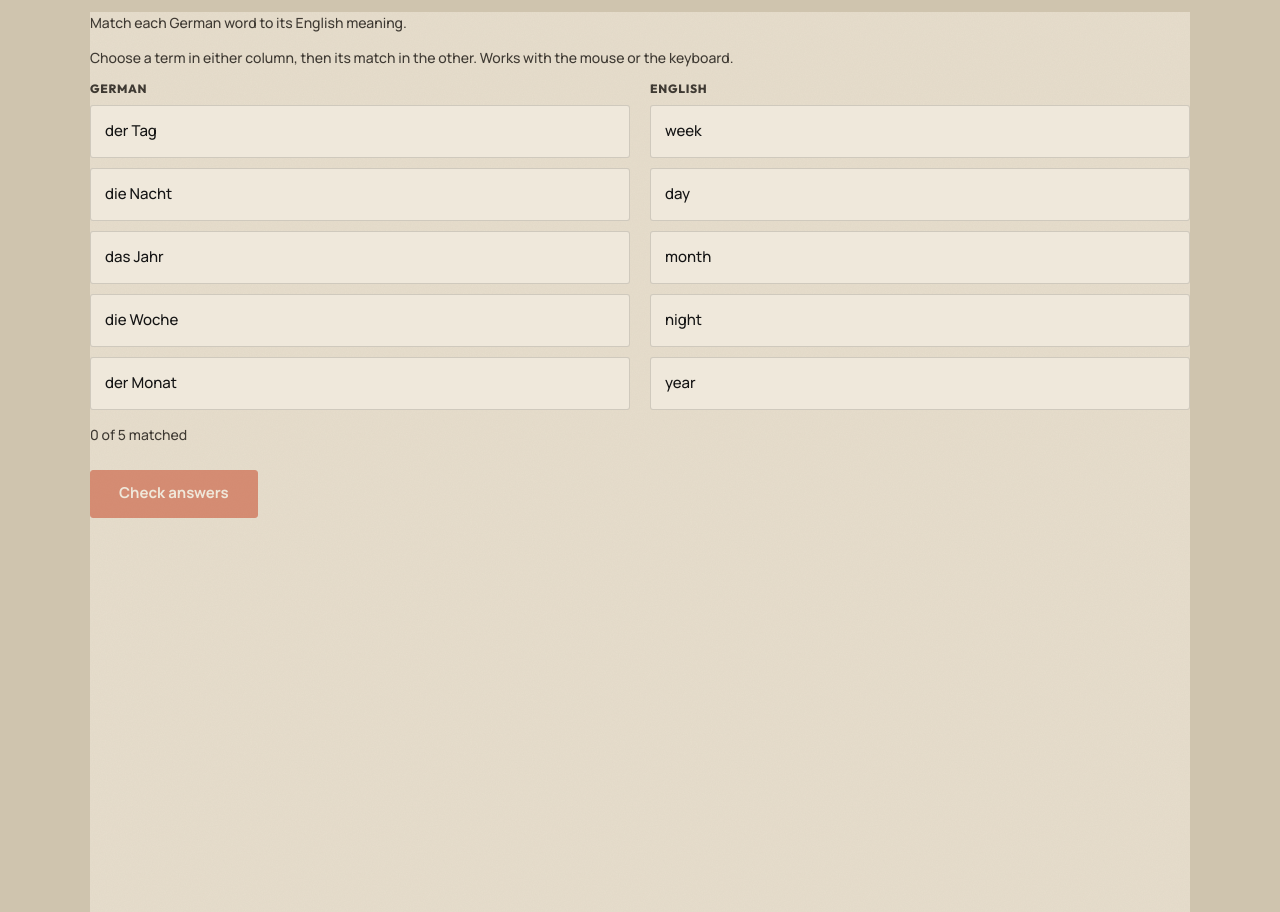
Test case: MatchingExercise › announces matching progress
The width and height of the screenshot is (1280, 912).
Click the button "der Tag" at (131, 131), box top-left (90, 105), bottom-right (630, 158)
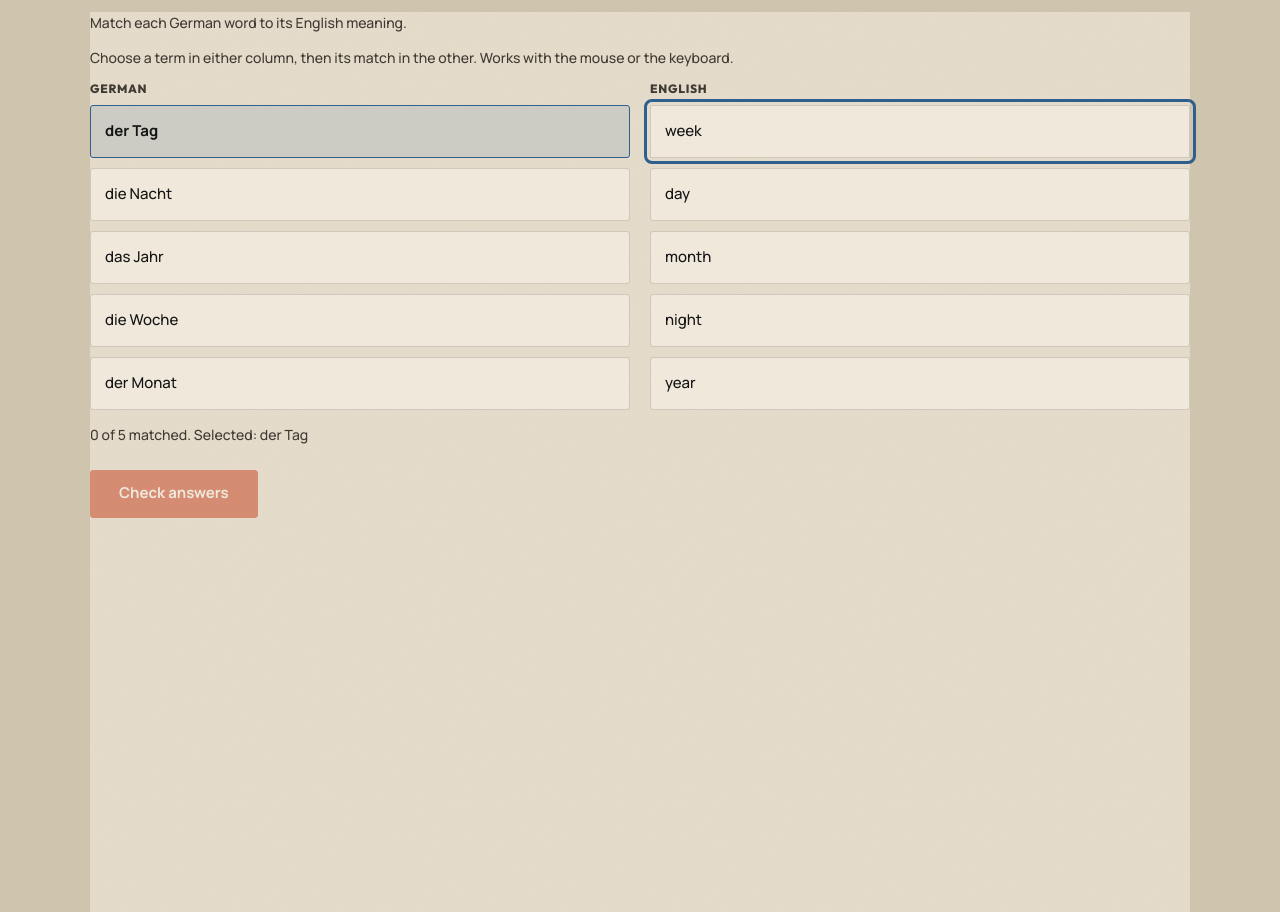
Click the button "day" at (678, 194), box top-left (650, 168), bottom-right (1190, 221)
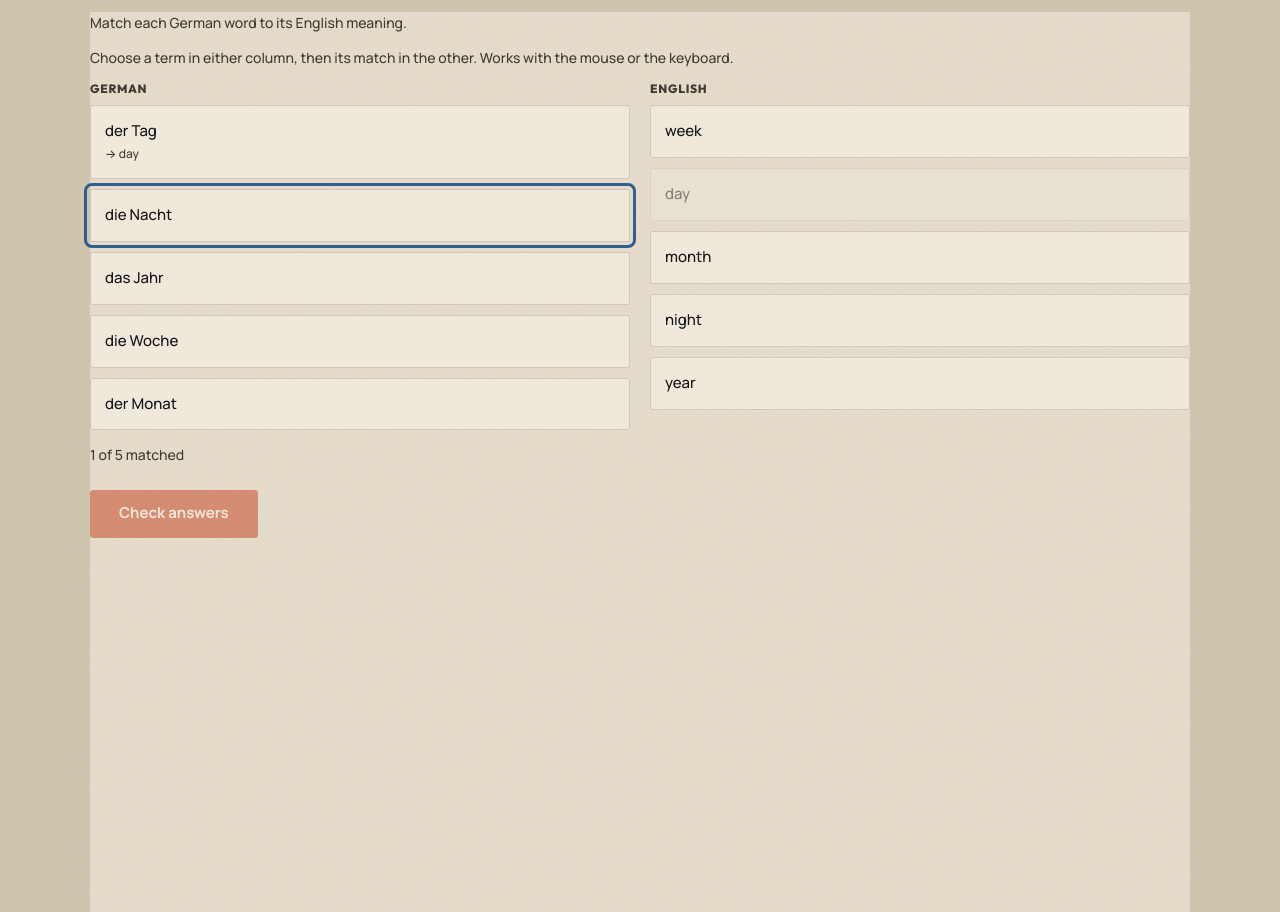
Expected: the message reads "1 of 5 matched", top-left (90, 446), bottom-right (184, 464)
